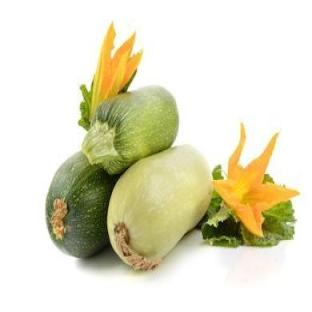Zucchini: (108, 146, 211, 269), (83, 87, 178, 173), (46, 153, 117, 257)
